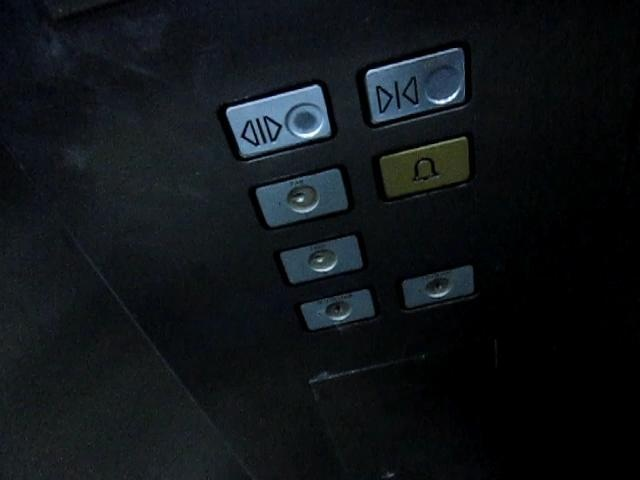alarm: (370, 131, 477, 206)
bt_keyhole: (246, 163, 357, 230), (273, 230, 371, 291), (398, 260, 482, 313), (293, 287, 382, 334)
close: (355, 38, 471, 129)
open: (215, 79, 339, 163)
